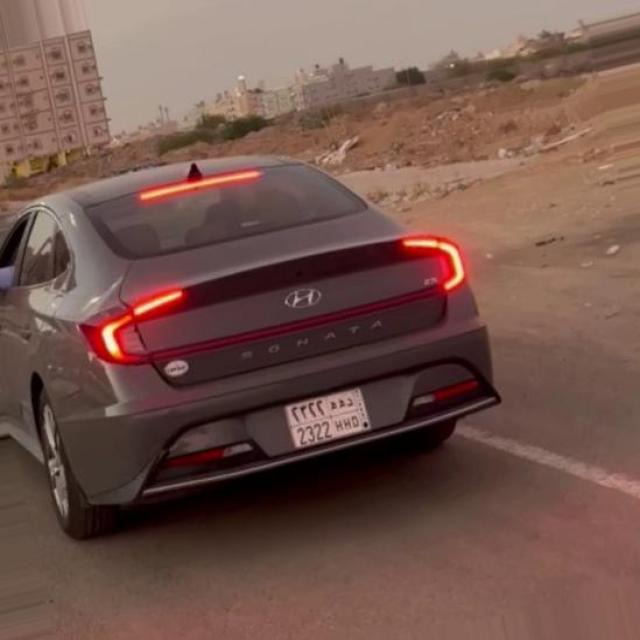Car-plate: (277, 379, 387, 456)
